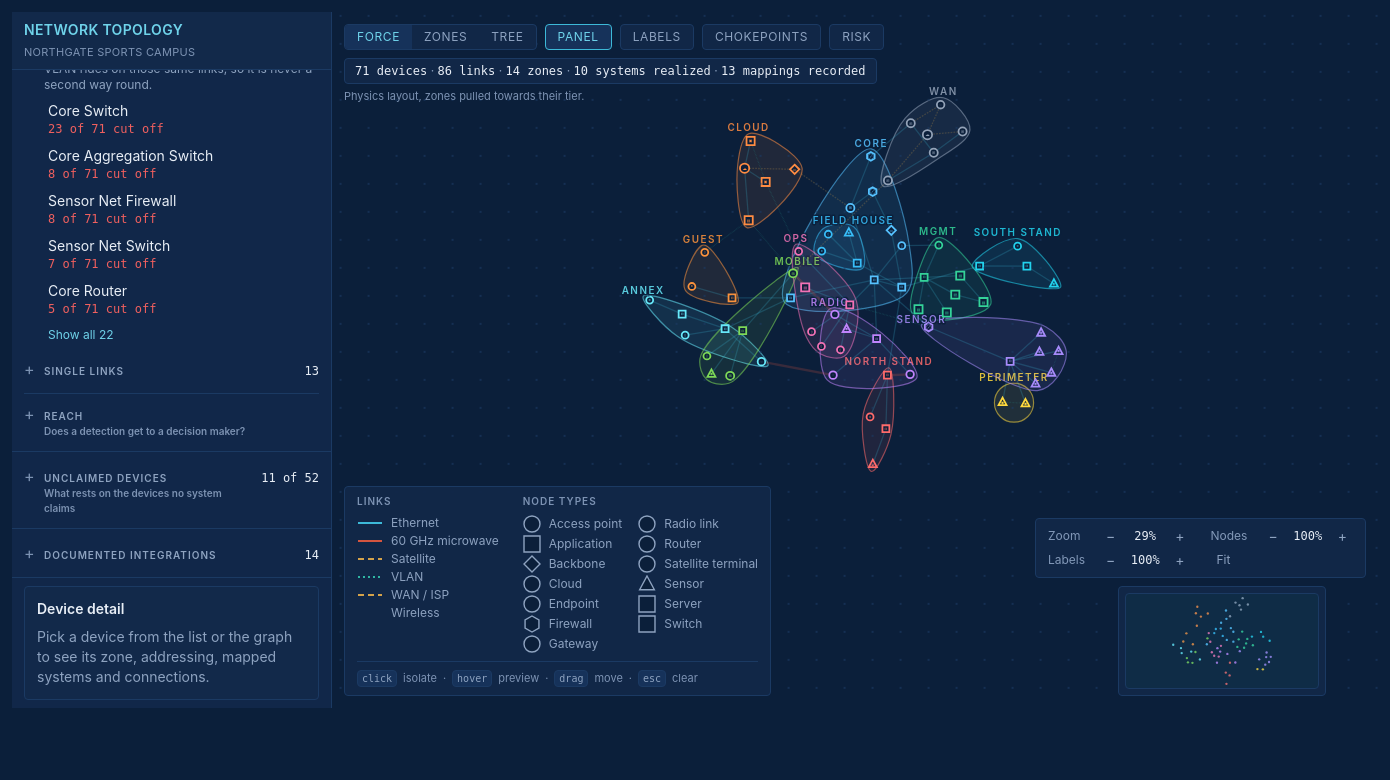
Scenario: Documented integrations › says why an integration cannot be checked here
The width and height of the screenshot is (1390, 780).
(page scrolled)
Click the button "+ Documented integrations 14".
click(172, 552)  # box x1=24 y1=536 x2=319 y2=568
(page scrolled)
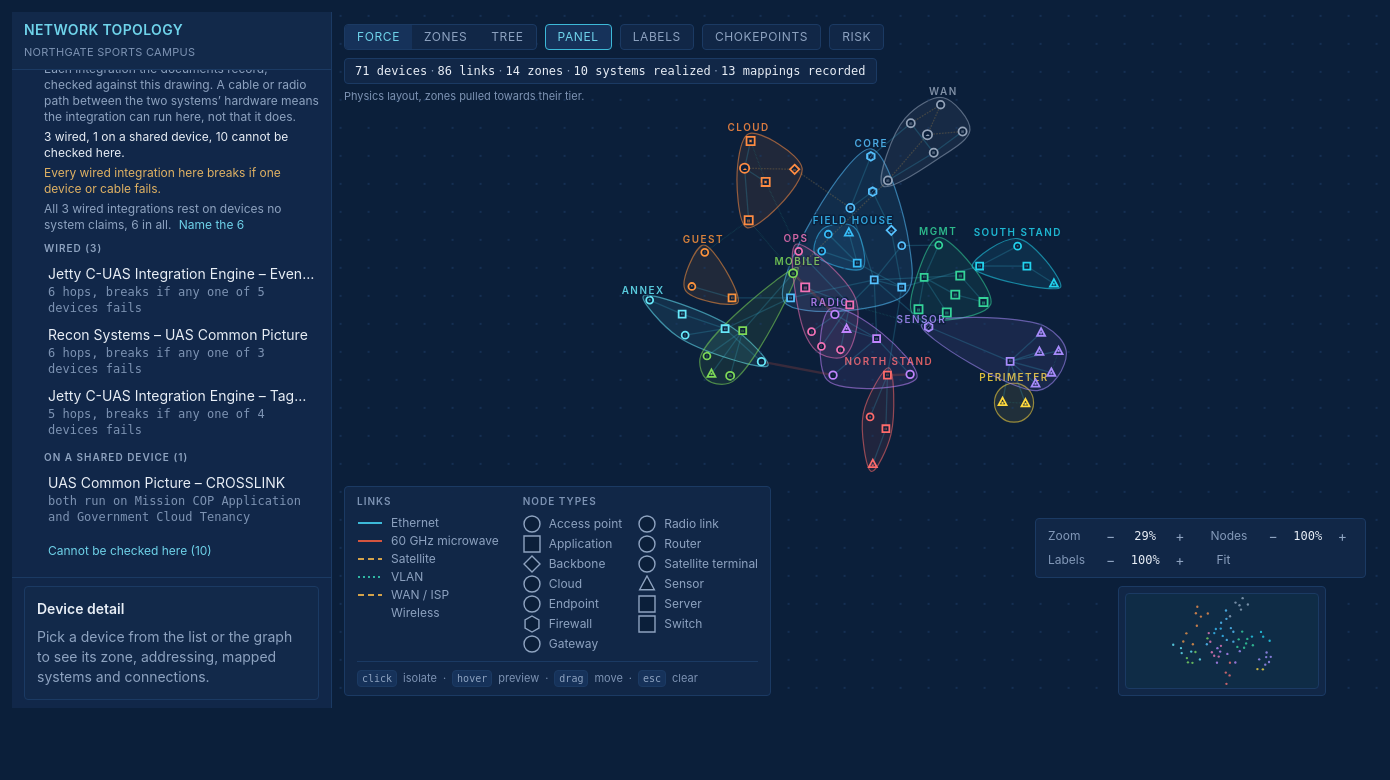
Click the button "Cannot be checked here (10)".
click(130, 550)  # box x1=44 y1=542 x2=216 y2=558
(page scrolled)
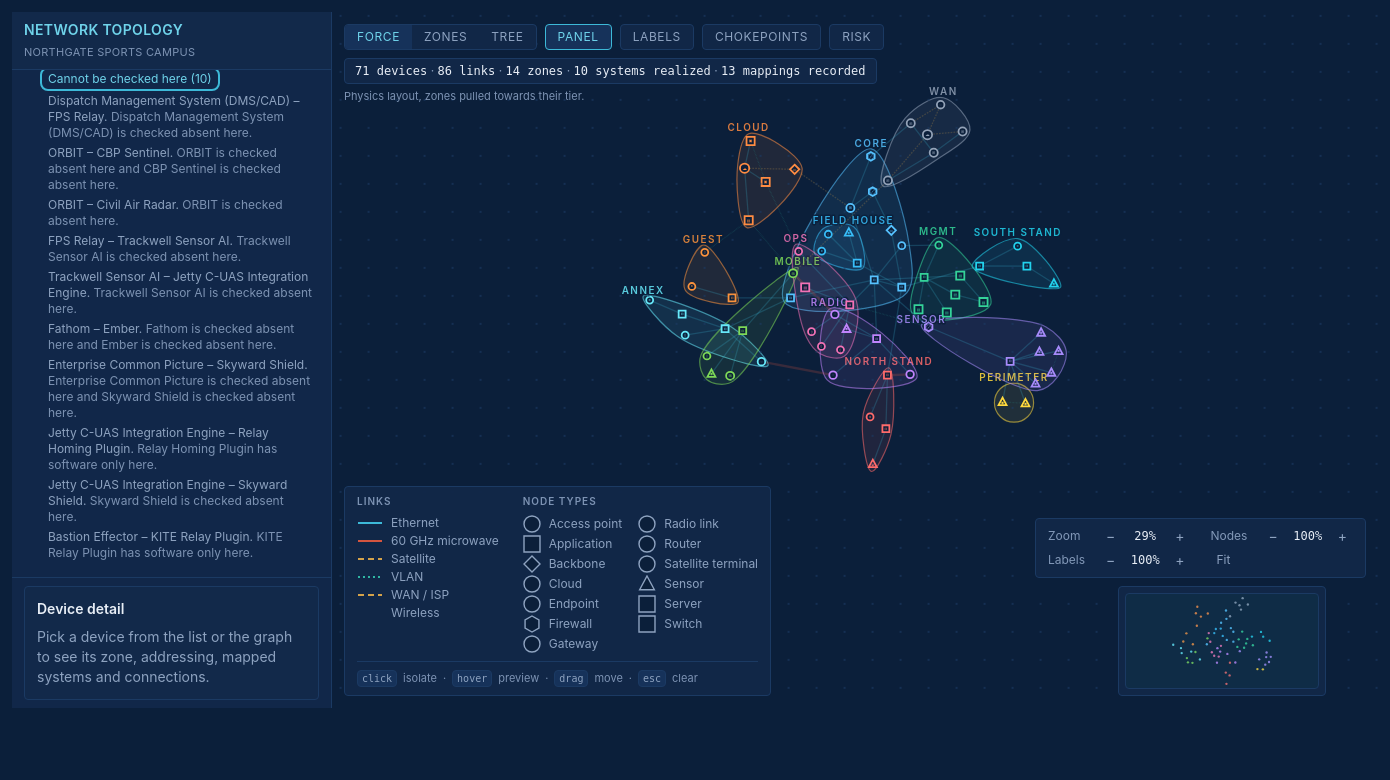
Expected: the list item "Dispatch Management System (DMS/CAD) – FPS Relay" shows "Dispatch Management System (DMS/CAD) is checked absent here", x1=48 y1=108 x2=284 y2=140
Expected: the list item "Jetty C-UAS Integration Engine – Relay Homing Plugin" shows "Relay Homing Plugin has software only here", x1=48 y1=440 x2=277 y2=472
